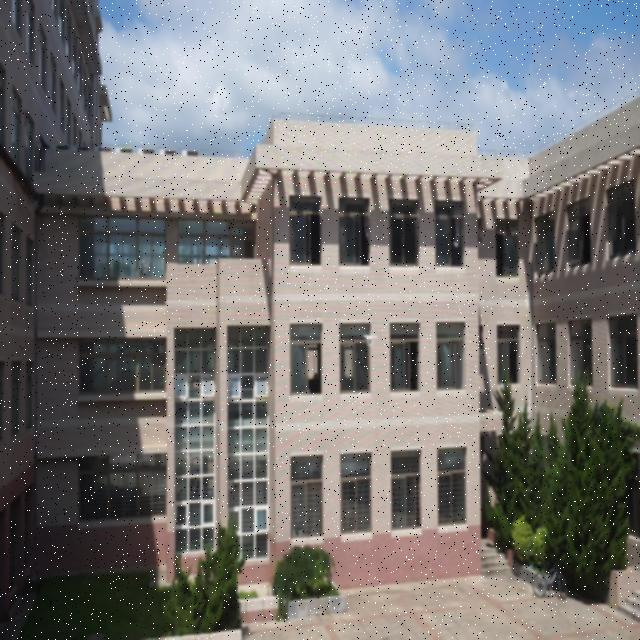UAV: (363, 335, 378, 345)
